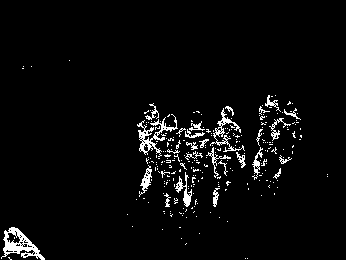person: (212, 105, 247, 207), (184, 111, 209, 207), (252, 94, 280, 179), (158, 112, 183, 207), (137, 103, 160, 196), (278, 102, 302, 180)
